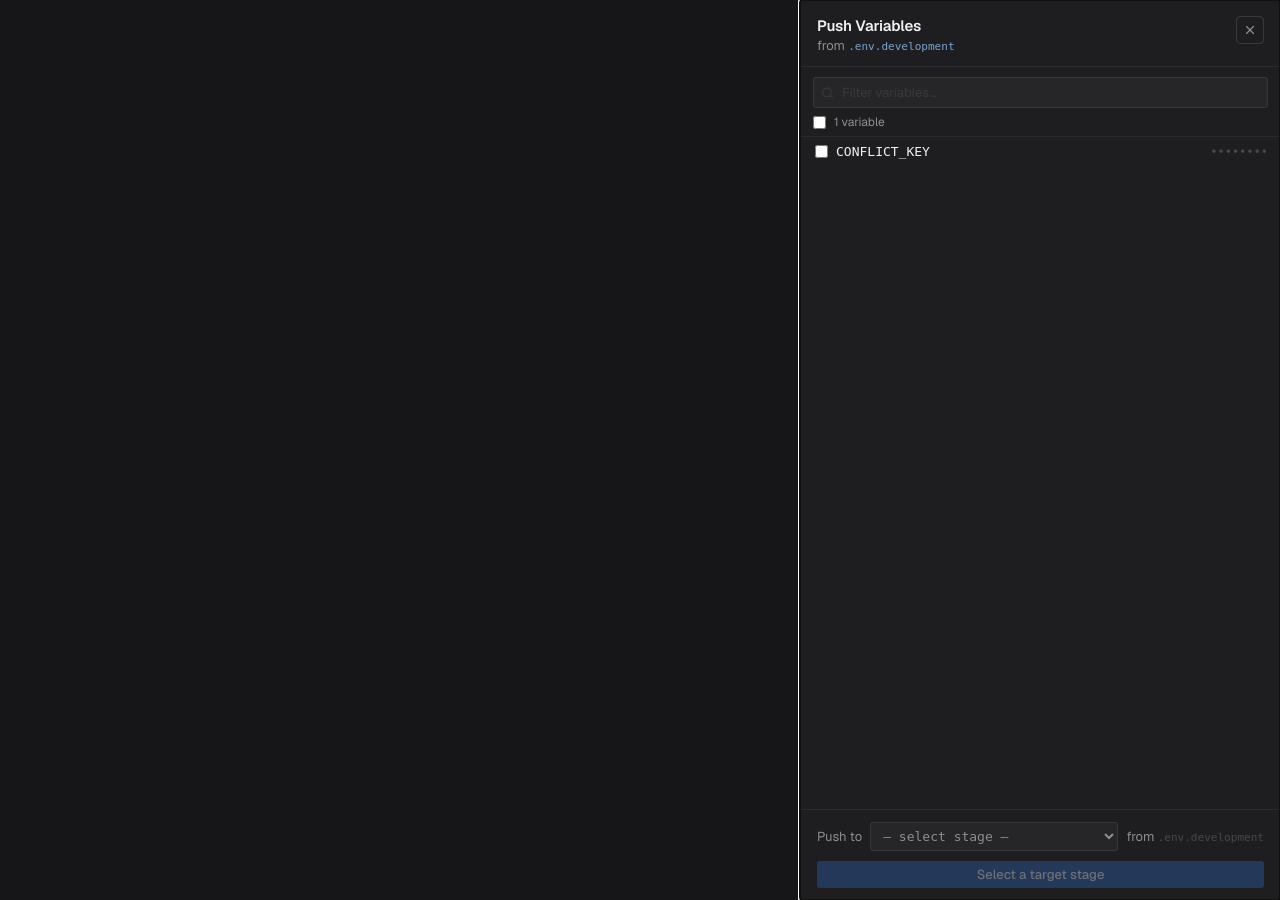
Scenario: PushToStagePanel › Stage selection + conflict detection › conflict badge appears for conflicting vars after preview
Select ".env.staging (empty)" in the dropdown with test id "stage-selector" at point(994, 836), box [870,822,1118,851]
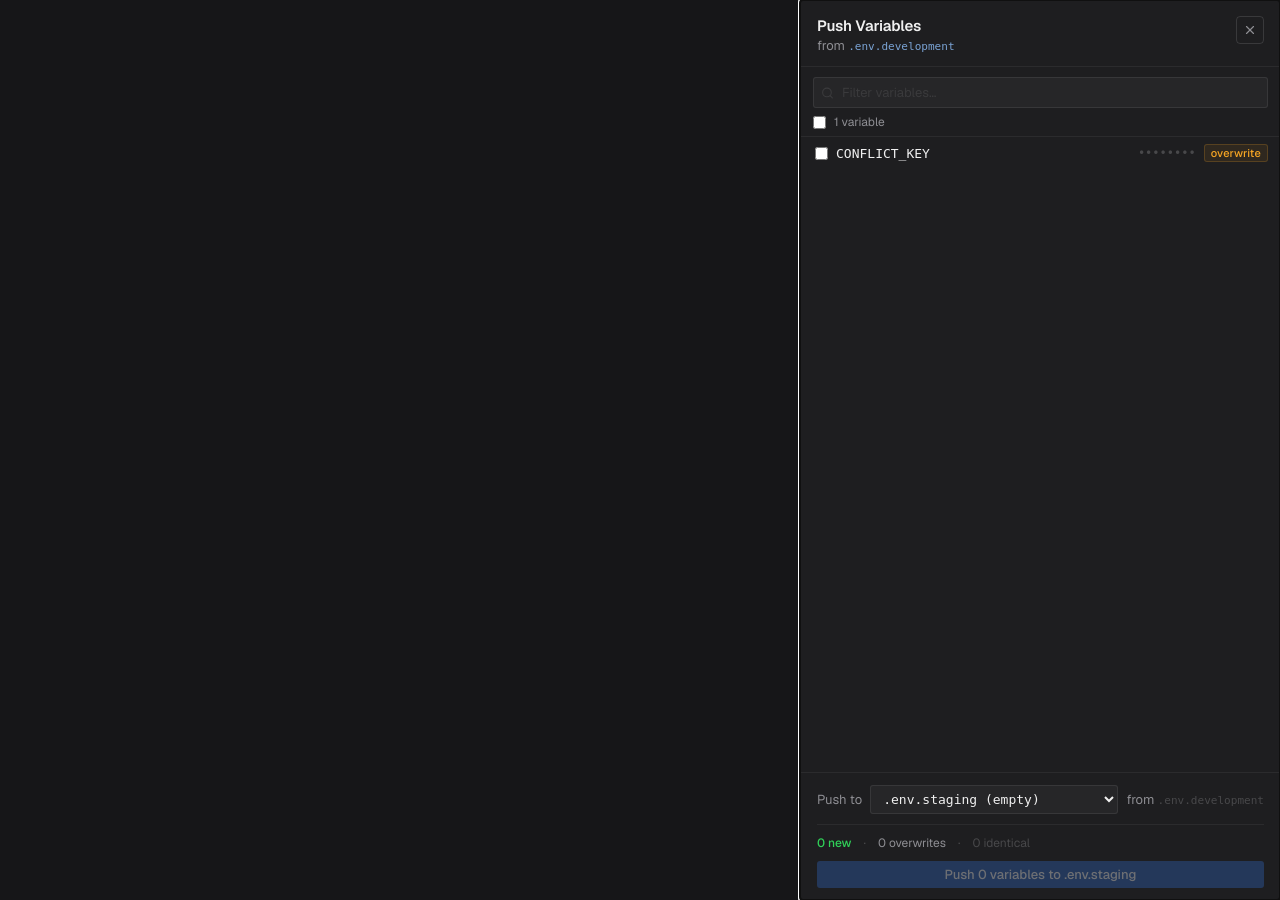
Now the text "overwrite" is shown, box [1204,144,1268,162]
